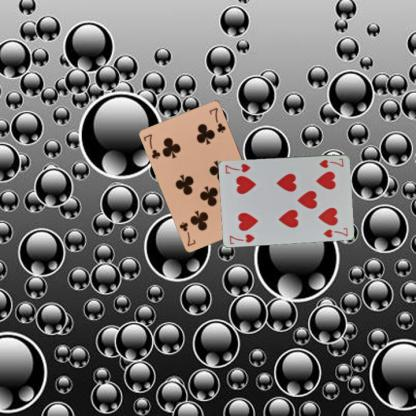7c: (141, 132, 162, 160)
7h: (227, 231, 256, 245), (317, 155, 345, 169)
